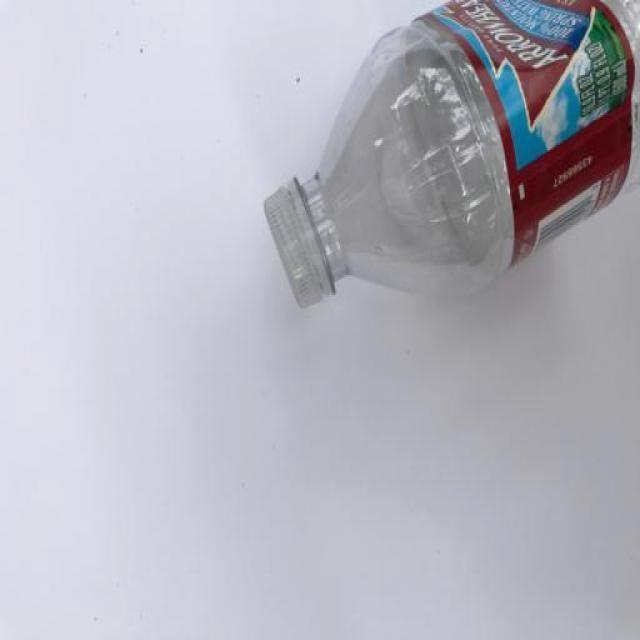bottle: (262, 0, 640, 308)
